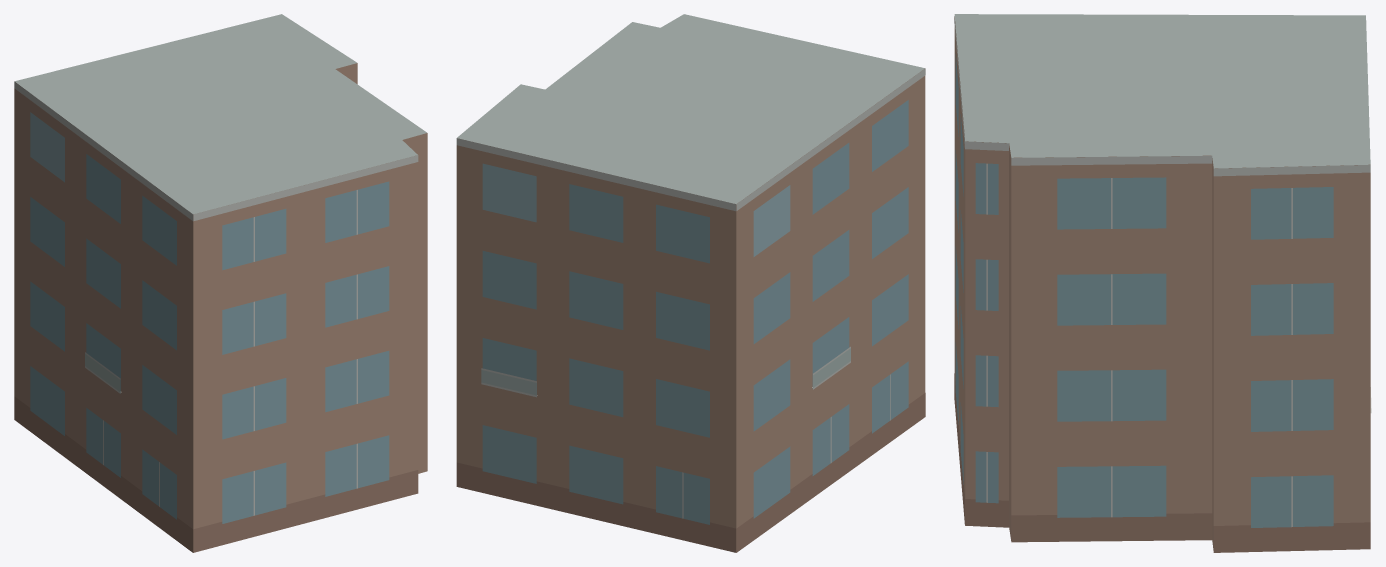
Rendered from survey-upis-32995401.glb.
The picture shows the model from 3 angles, left to right: view 1: azimuth 30°, elevation 25°; view 2: azimuth 150°, elevation 25°; view 3: azimuth 270°, elevation 25°; orthographic projection. The views are drawn at different scales.
Visible parts, largest first — view 1: survey-upis-32995401.tmp; view 2: survey-upis-32995401.tmp; view 3: survey-upis-32995401.tmp.
Boxes of the visible parts, x1,y1,x2,y2 form: survey-upis-32995401.tmp: (14, 14, 427, 552); survey-upis-32995401.tmp: (456, 14, 925, 552); survey-upis-32995401.tmp: (954, 14, 1371, 552).
Size of the model in its own units: 10.26 by 11.9 by 11.71.
